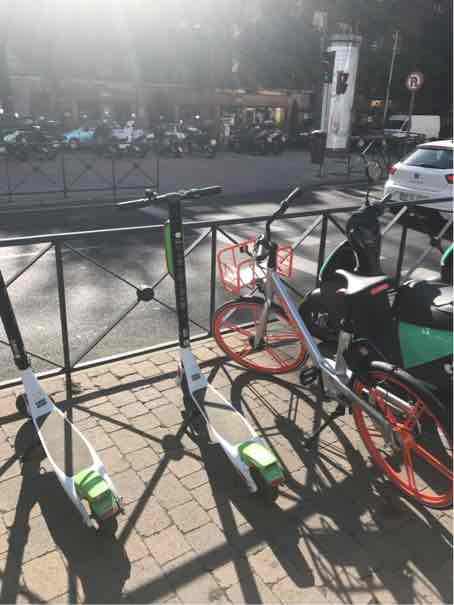scooter: (93, 177, 307, 523)
